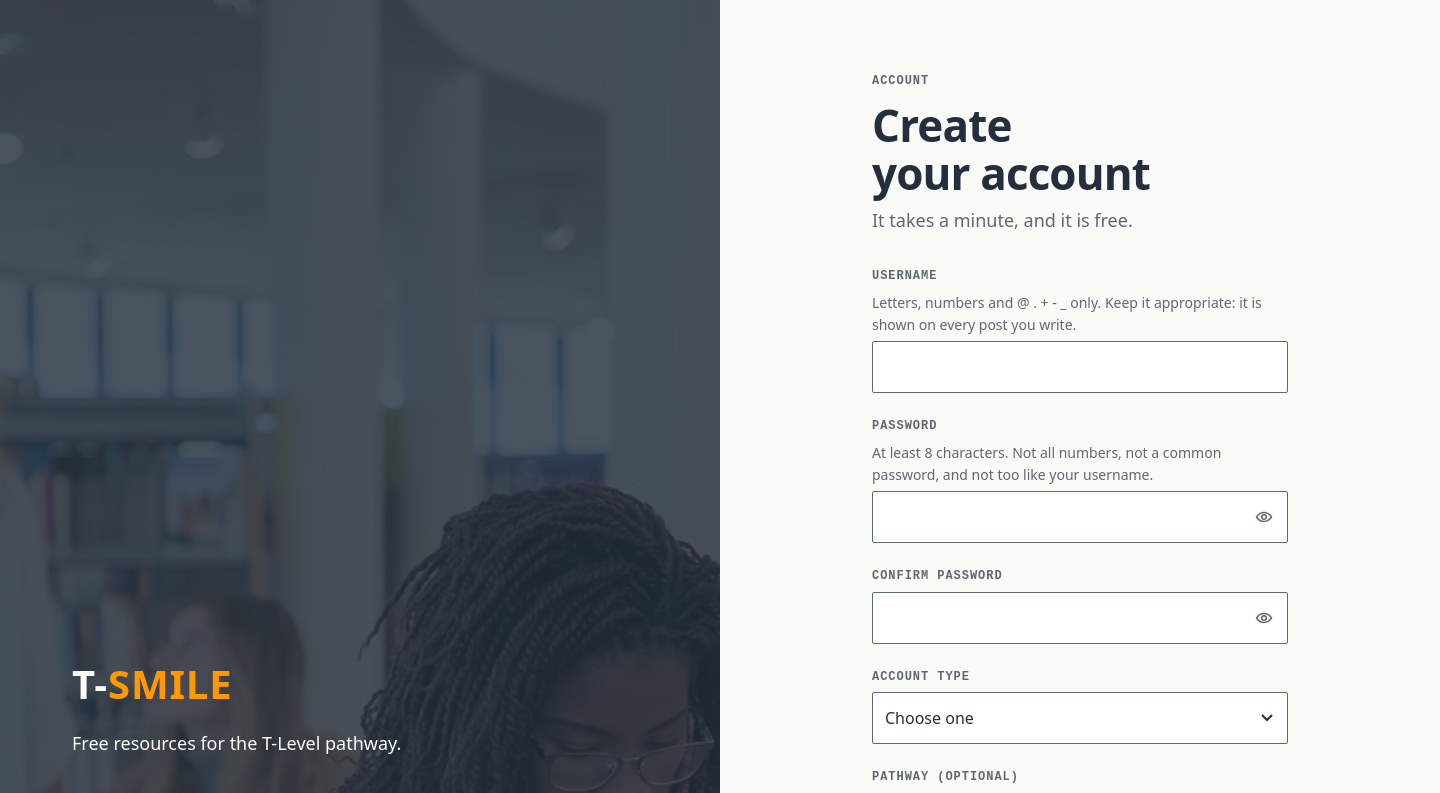
Test case: Sign up: content the server refuses › shows the refusal on the username box, not as a general failure
Step 1. Type "notaniceword" into the field labelled "Username" → (1080, 367), box [872,341,1288,393]
Step 2. Type "harbour-lantern-47" into the password field labelled "Password" → (1080, 517), box [872,491,1288,543]
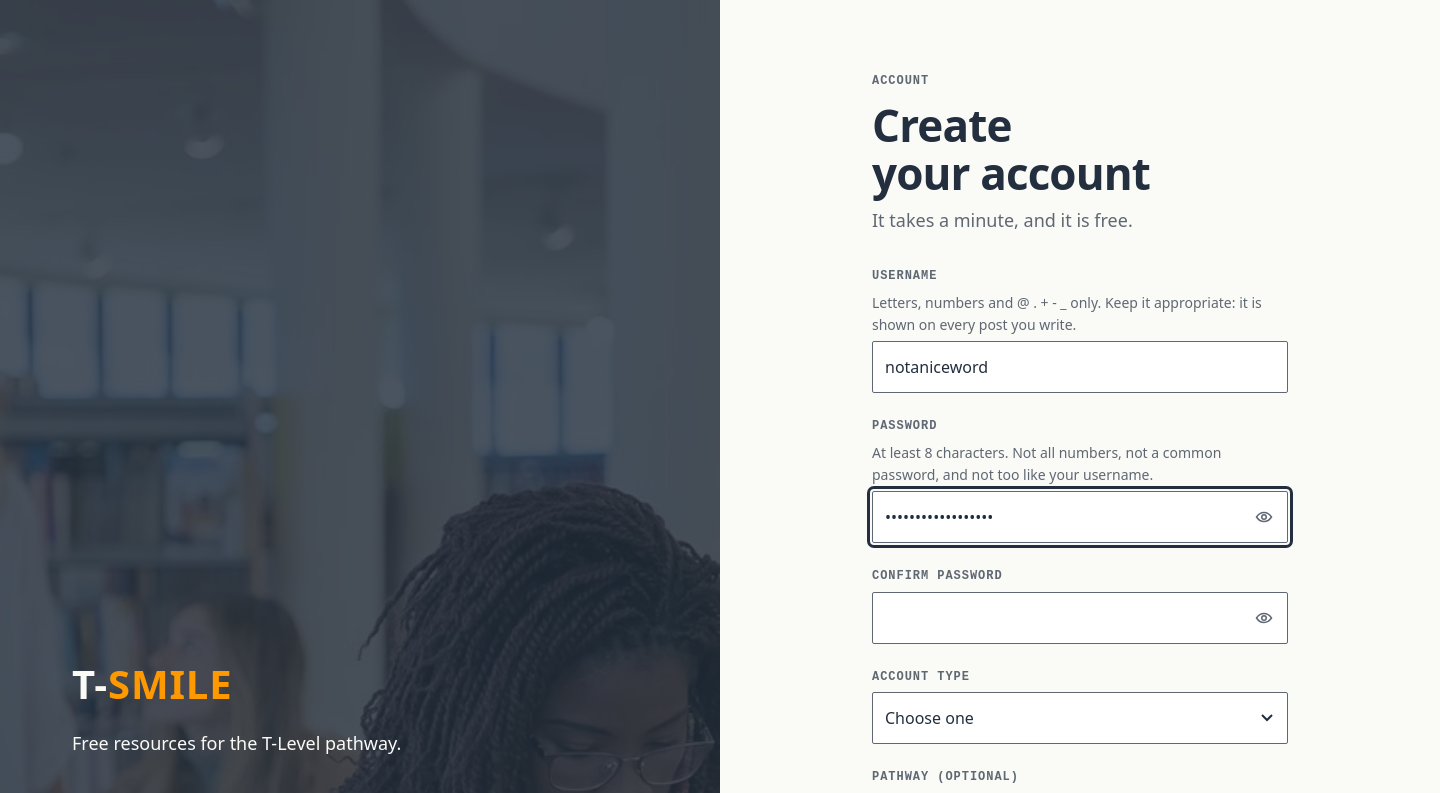
Step 3. Type "harbour-lantern-47" into the password field labelled "Confirm password" → (1080, 618), box [872,592,1288,644]
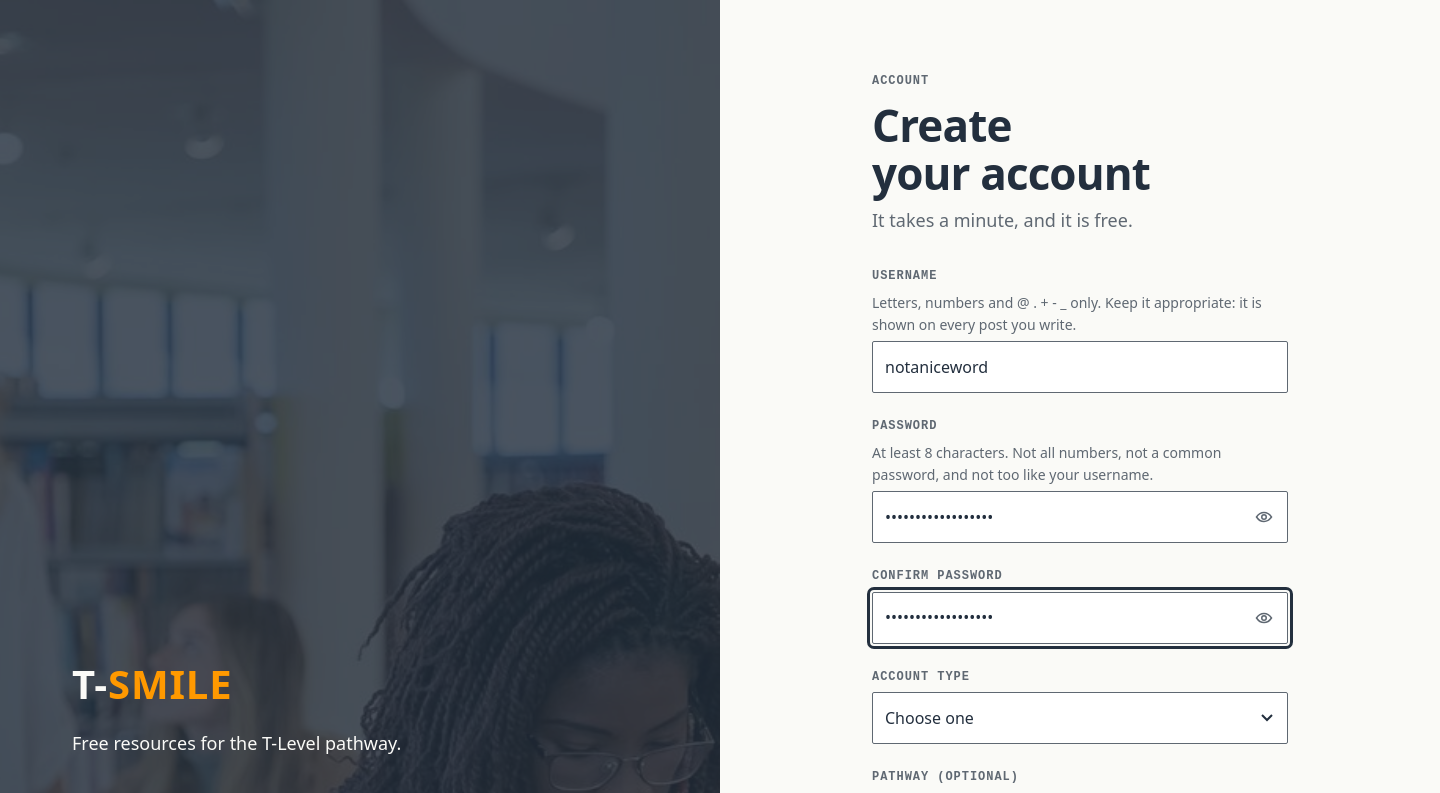
Step 4. Select "Student" in the dropdown labelled "Account type" → (1080, 718), box [872,692,1288,744]
(page scrolled)
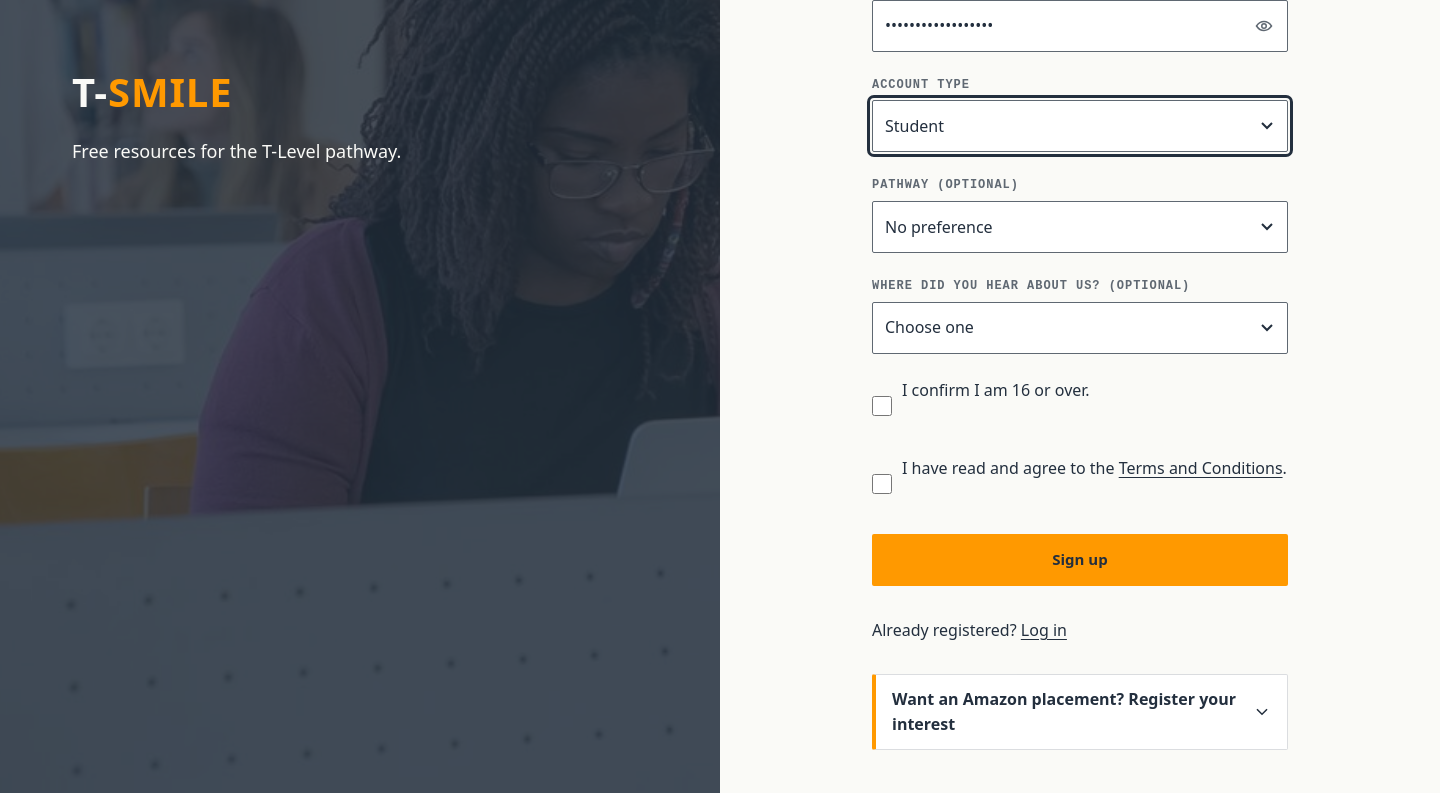
Step 5. Click the checkbox labelled "I confirm I am 16 or over." → (882, 406), box [872,380,892,432]
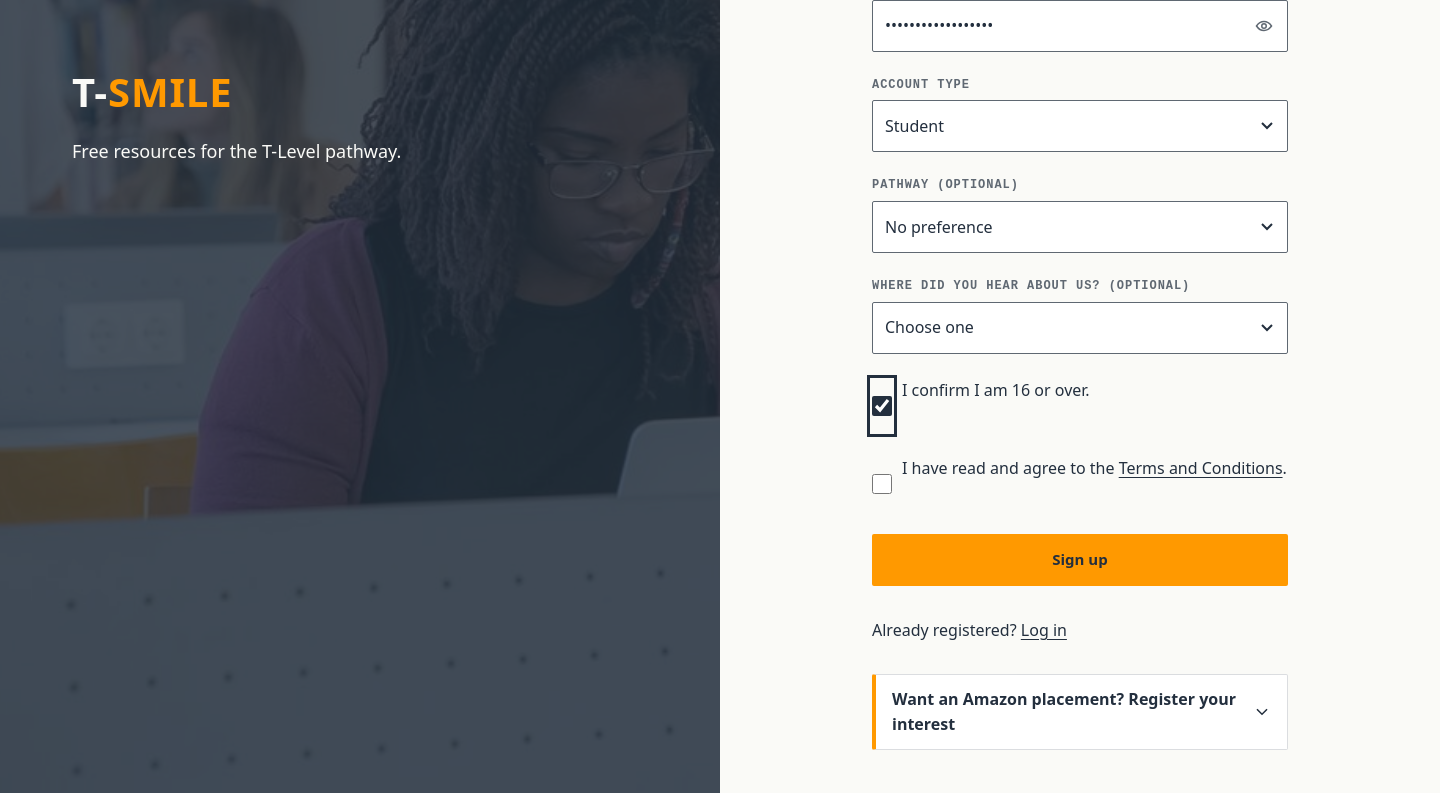
Step 6. Click the checkbox labelled "I have read and agree to the Terms and Conditions ." → (882, 484), box [872,458,892,510]
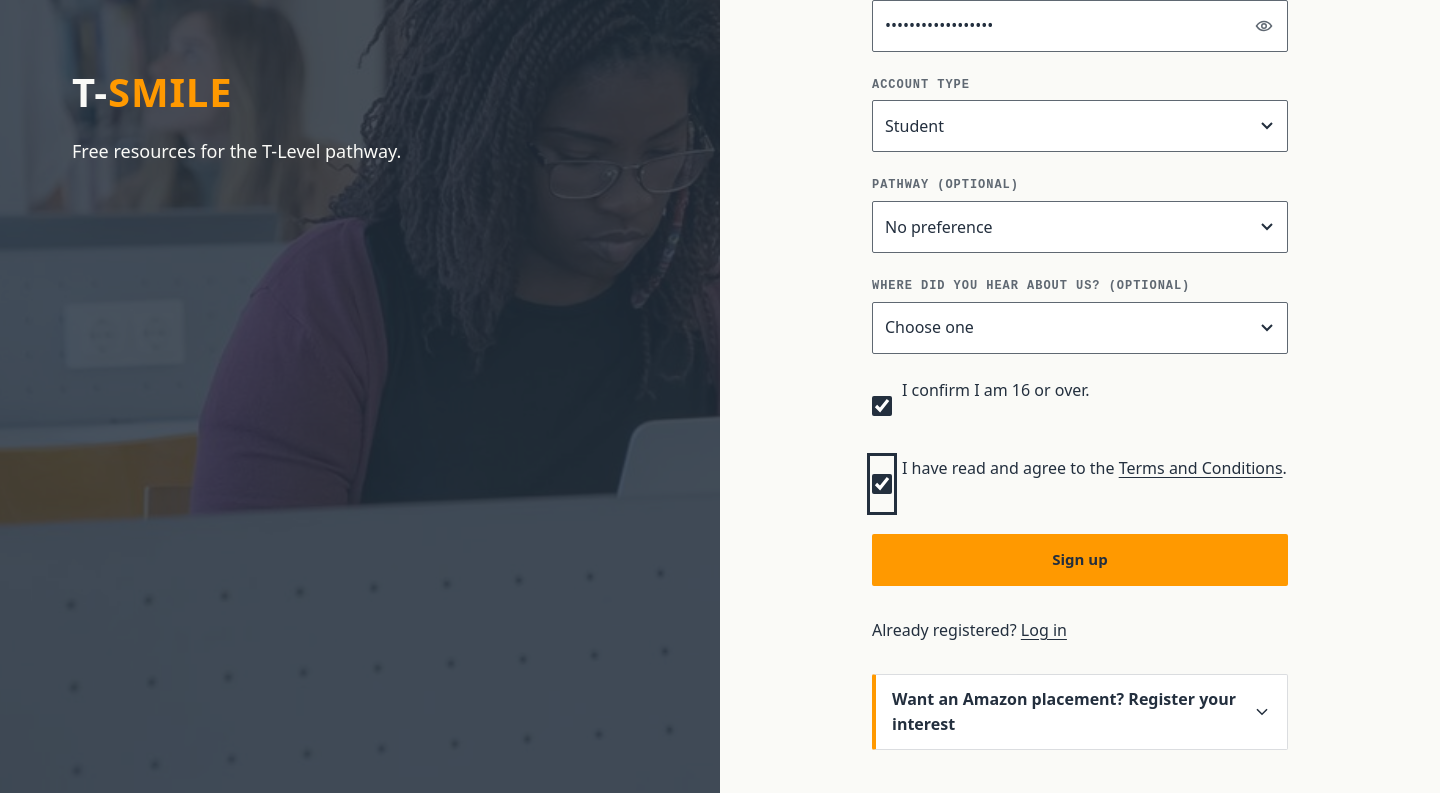
Step 7. Click the button "Sign up" → (1080, 560), box [872,534,1288,586]
(page scrolled)
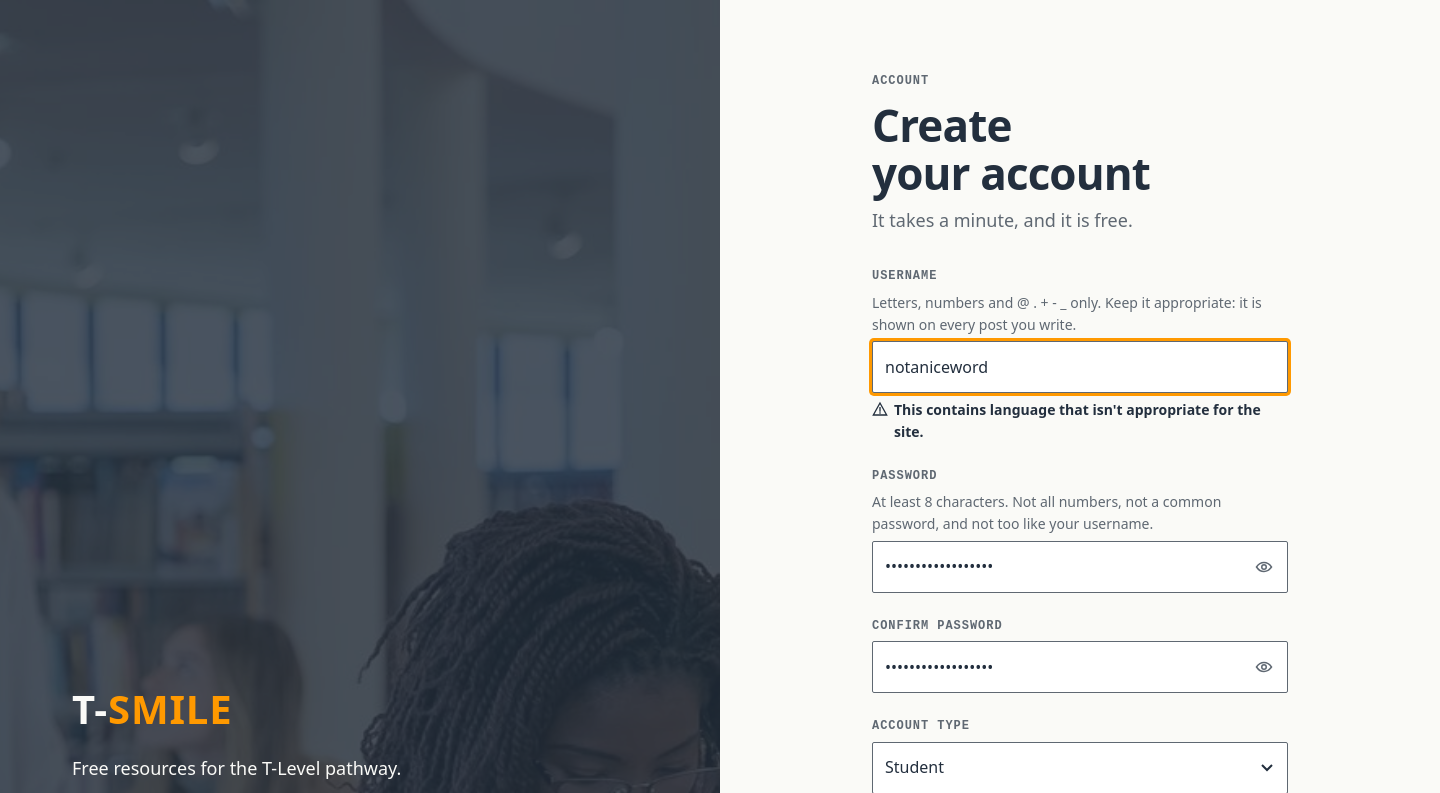
Now the text "This contains language that isn't appropriate for the site." is shown, box [872,399,1288,443]
